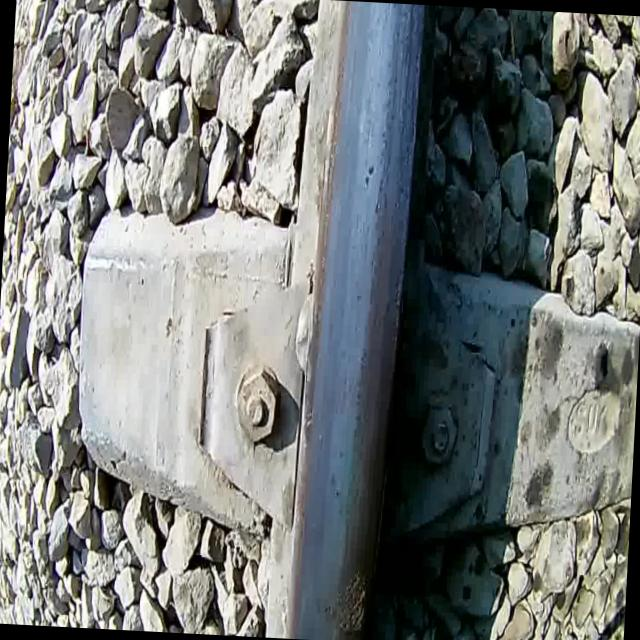Spallings: (321, 562, 372, 639)
